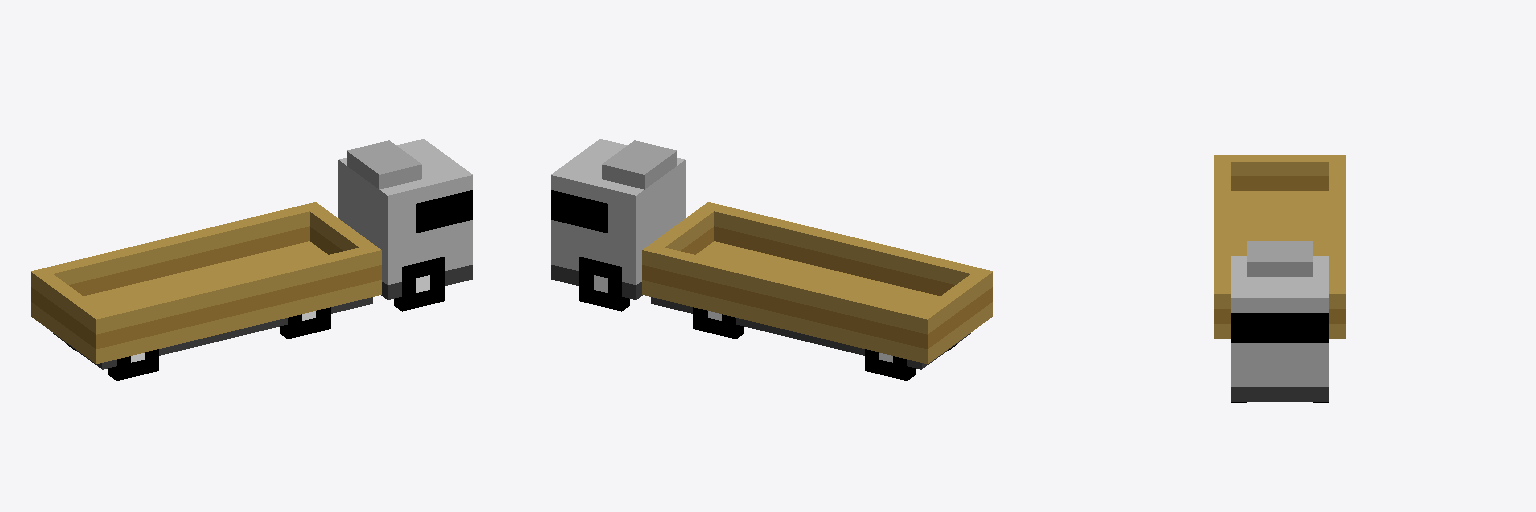
3 renders of one model, left to right at view 1: azimuth 30°, elevation 25°; view 2: azimuth 150°, elevation 25°; view 3: azimuth 270°, elevation 25°, orthographic.
Visible parts, largest first — view 1: object 1; view 2: object 1; view 3: object 1.
Part boxes in pixels (bbox=[...]): object 1: bbox=[31, 139, 472, 380]; object 1: bbox=[551, 139, 992, 380]; object 1: bbox=[1214, 155, 1345, 402].
Bounding box in the file's own units: 2.7 × 0.9 × 0.8.
Materials: 1 (1 with a texture image).